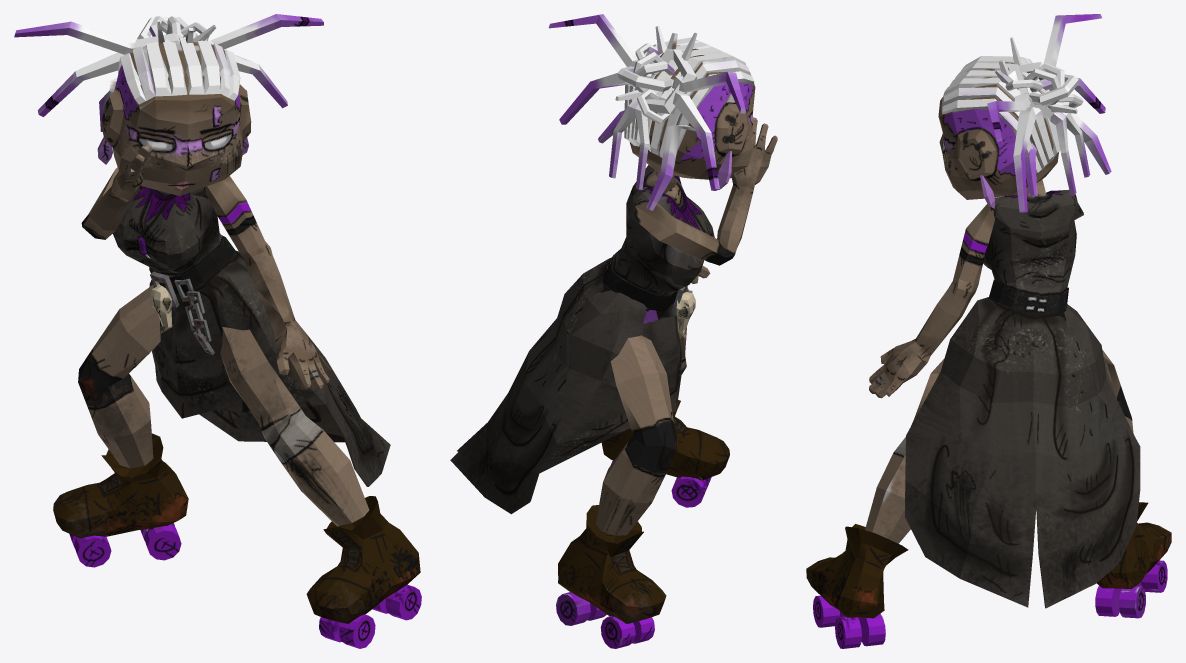
The model's file is bruja_000024.obj.
3 renders of one model, left to right at view 1: azimuth 30°, elevation 25°; view 2: azimuth 150°, elevation 25°; view 3: azimuth 270°, elevation 25°, orthographic. The views are drawn at different scales.
Visible parts, largest first — view 1: Bruja_Plane.001; view 2: Bruja_Plane.001; view 3: Bruja_Plane.001.
Boxes of the visible parts, bbox=[...] form: Bruja_Plane.001: bbox=[14, 14, 421, 648]; Bruja_Plane.001: bbox=[450, 14, 777, 648]; Bruja_Plane.001: bbox=[806, 14, 1171, 648].
Size of the model in its own units: 9.29 by 15.44 by 9.24.
